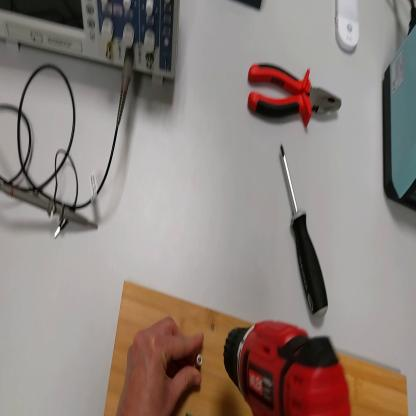hand: (120, 317, 206, 416)
oscilloscope: (2, 1, 181, 91)
oscilloscope probe tip: (3, 185, 101, 233)
pliers: (249, 57, 344, 127)
screwdriver-: (281, 144, 330, 317)
welder station: (384, 23, 416, 220)
working area: (104, 286, 408, 416)
